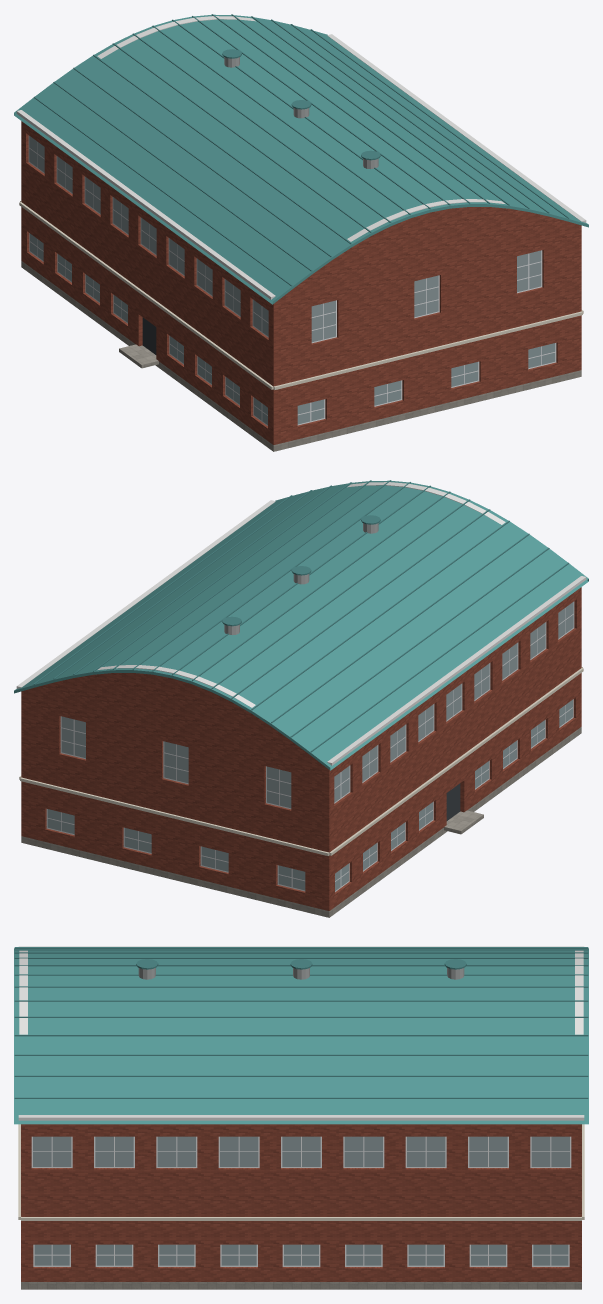
3 views of the same model, one above another, from view 1: azimuth 30°, elevation 25°; view 2: azimuth 150°, elevation 25°; view 3: azimuth 270°, elevation 25° (orthographic). The views are drawn at different scales.
Visible parts, largest first — view 1: gym__brick, gym__vault, gym__vaultrib, gym__sideglass, gym__creamtrim, gym__glass, gym__stone, gym__frame, gym__band; view 2: gym__brick, gym__vault, gym__vaultrib, gym__sideglass, gym__creamtrim, gym__glass, gym__stone, gym__frame, gym__band; view 3: gym__vault, gym__brick, gym__vaultrib, gym__sideglass, gym__glass, gym__creamtrim, gym__frame, gym__stone, gym__band, gym__steel.
Boxes of the visible parts, x1,y1,x2,y2 form: gym__brick: (21,121,581,444); gym__vault: (14,14,588,304); gym__vaultrib: (33,14,569,286); gym__sideglass: (29,136,541,342); gym__creamtrim: (16,16,586,299); gym__glass: (30,233,555,424); gym__stone: (21,261,581,451); gym__frame: (28,135,556,425); gym__band: (19,201,583,389); gym__brick: (21,587,581,910); gym__vault: (14,480,588,770); gym__vaultrib: (33,480,569,752); gym__sideglass: (61,602,573,808); gym__creamtrim: (16,482,586,765); gym__glass: (47,699,572,890); gym__stone: (21,727,581,917); gym__frame: (46,601,574,891); gym__band: (19,667,583,855); gym__vault: (14,948,588,1124); gym__brick: (21,1124,581,1281); gym__vaultrib: (14,947,588,1098); gym__sideglass: (33,1136,569,1166); gym__glass: (34,1244,568,1265); gym__creamtrim: (18,946,584,1120); gym__frame: (31,1136,571,1266); gym__stone: (21,1282,581,1289); gym__band: (18,1124,584,1220); gym__steel: (138,968,464,979).
Bounding box in the file's own units: 26.92 × 17.03 × 36.61.
12 materials, 2 textured.
